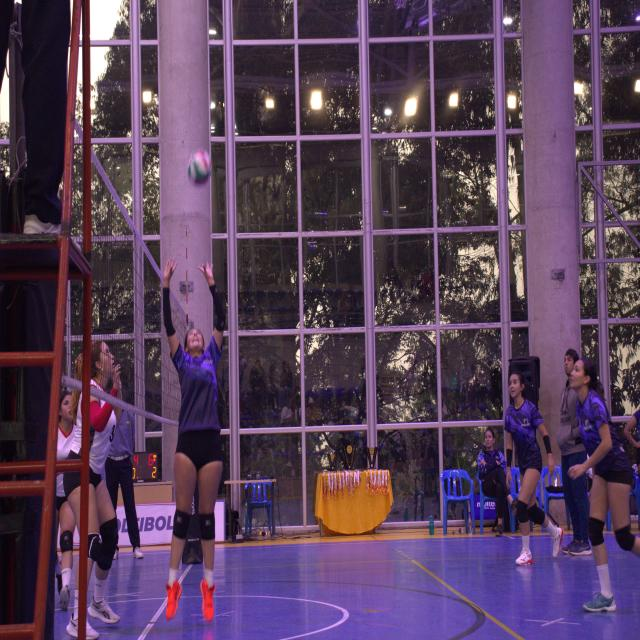volleyball: (187, 149, 212, 186)
